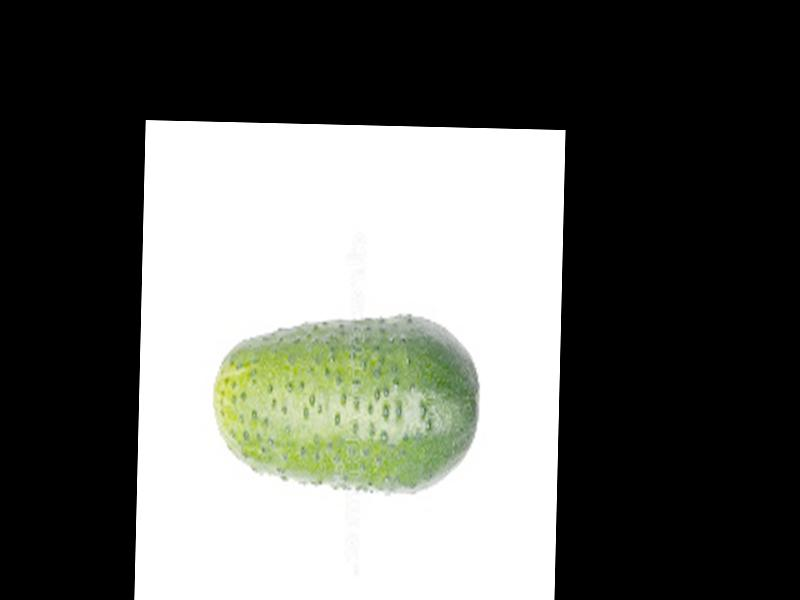Cucumber: (209, 309, 481, 498)
